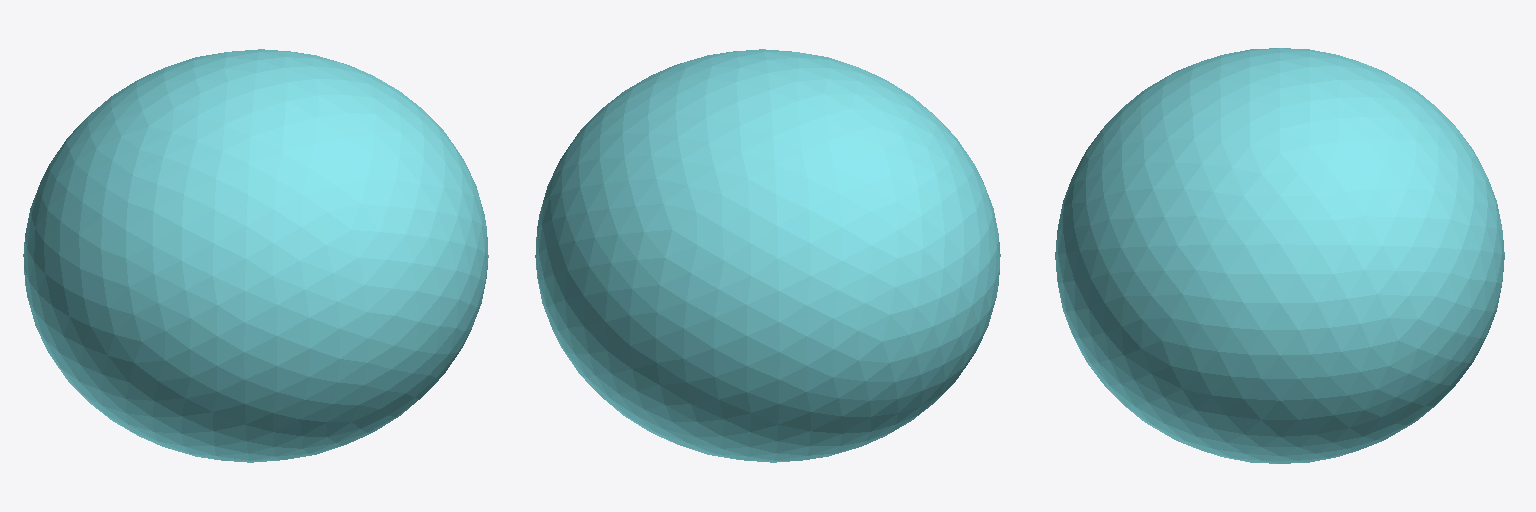
Rendered from Orb.obj.
The picture shows the model from 3 angles: view 1: azimuth 30°, elevation 25°; view 2: azimuth 150°, elevation 25°; view 3: azimuth 270°, elevation 25°; orthographic projection.
Parts seen in each view (by area): view 1: Orb; view 2: Orb; view 3: Orb.
Boxes of the visible parts, x1=… form: Orb: x1=23, y1=49, x2=488, y2=462; Orb: x1=535, y1=49, x2=1000, y2=462; Orb: x1=1055, y1=48, x2=1504, y2=463.
Bounding box in the file's own units: 0.0259 × 0.0222 × 0.0247.